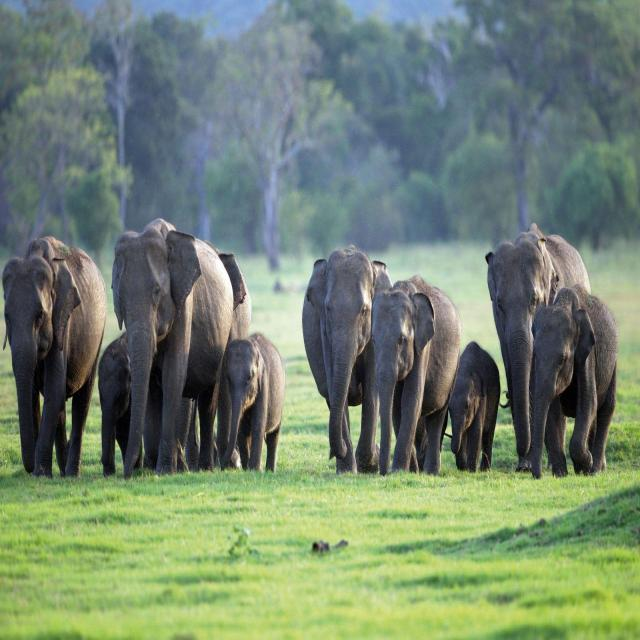Elephant: (485, 228, 625, 498), (113, 220, 224, 472), (5, 225, 104, 483), (375, 267, 459, 475), (303, 248, 369, 484), (215, 330, 286, 474), (449, 342, 502, 483)
